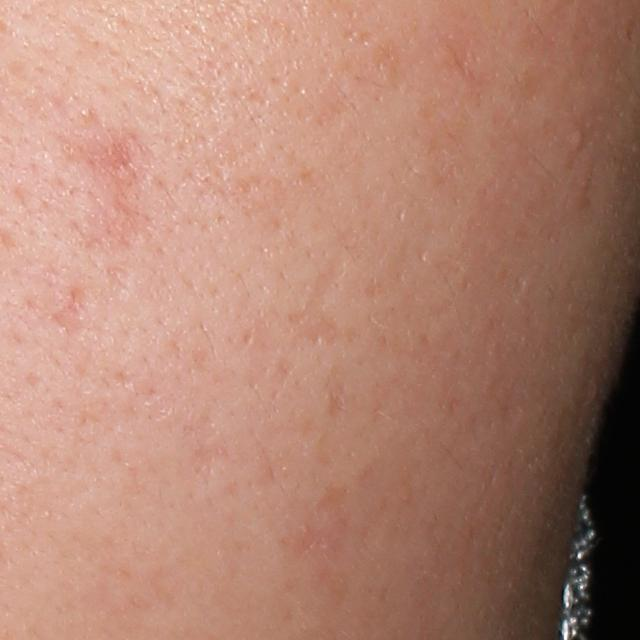atrophic_scar: (111, 370, 232, 496), (74, 128, 158, 256), (286, 254, 344, 344), (104, 264, 134, 310)
comedo: (569, 128, 585, 153)
